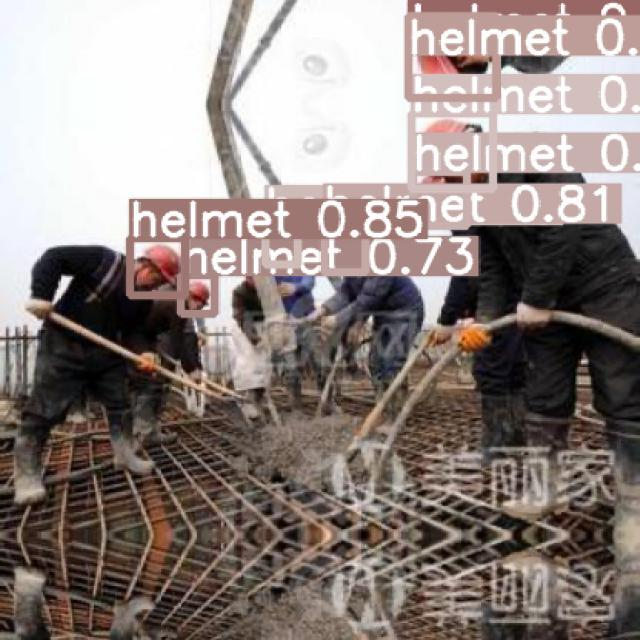Helmet: (135, 243, 180, 284)
